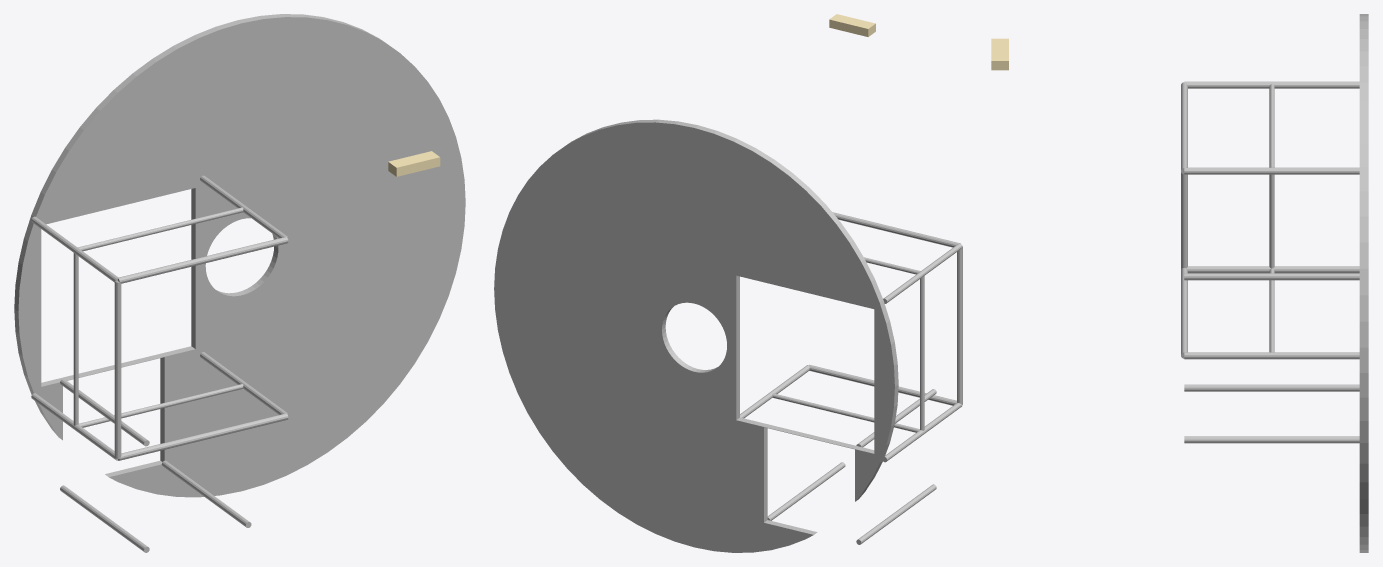
File: platform_4.obj
3 views of the same model, side by side, from view 1: azimuth 30°, elevation 25°; view 2: azimuth 150°, elevation 25°; view 3: azimuth 270°, elevation 25° (orthographic). The views are drawn at different scales.
Visible parts, largest first — view 1: platform_4; view 2: platform_4; view 3: platform_4.
Part boxes in pixels (<box>): platform_4: <box>14,14,465,552</box>; platform_4: <box>494,14,962,552</box>; platform_4: <box>991,14,1368,552</box>.
Bounding box in the file's own units: 3.08 × 3.08 × 2.15.
